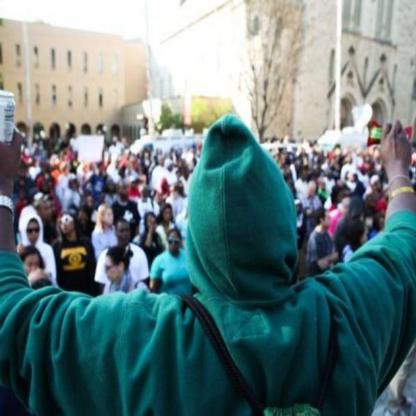face: (106, 254, 120, 283), (27, 254, 40, 281), (28, 219, 40, 242), (119, 223, 131, 243), (361, 227, 370, 252), (62, 216, 74, 233), (170, 232, 180, 252), (79, 212, 89, 232), (42, 202, 53, 218), (148, 216, 158, 232), (105, 209, 114, 225), (120, 186, 129, 201), (324, 212, 332, 228), (343, 193, 351, 207), (164, 207, 172, 220), (87, 197, 94, 211), (375, 180, 383, 192), (310, 182, 317, 195), (41, 182, 49, 193), (158, 191, 165, 203), (381, 219, 388, 230), (71, 180, 78, 190), (349, 171, 356, 181), (85, 160, 91, 171), (320, 180, 326, 191), (109, 181, 115, 191), (143, 188, 149, 198), (345, 154, 351, 163), (121, 167, 126, 177), (296, 205, 301, 215), (302, 170, 308, 178), (179, 184, 184, 193), (73, 160, 79, 167), (48, 181, 53, 189), (88, 183, 93, 191), (65, 148, 70, 156), (20, 179, 25, 187), (163, 182, 168, 190), (172, 153, 177, 161), (179, 160, 184, 168), (375, 151, 380, 159), (40, 141, 44, 150), (55, 157, 60, 164), (336, 149, 341, 156), (315, 156, 320, 163), (324, 151, 329, 158), (366, 155, 371, 162), (65, 167, 69, 175), (123, 138, 128, 144), (280, 157, 286, 162), (160, 158, 164, 165), (127, 152, 131, 159), (186, 144, 190, 151), (139, 168, 144, 173), (290, 155, 294, 161), (36, 161, 40, 166), (145, 153, 149, 158), (114, 137, 118, 142), (303, 150, 306, 156), (159, 150, 162, 155), (193, 148, 196, 153), (35, 144, 38, 148)
